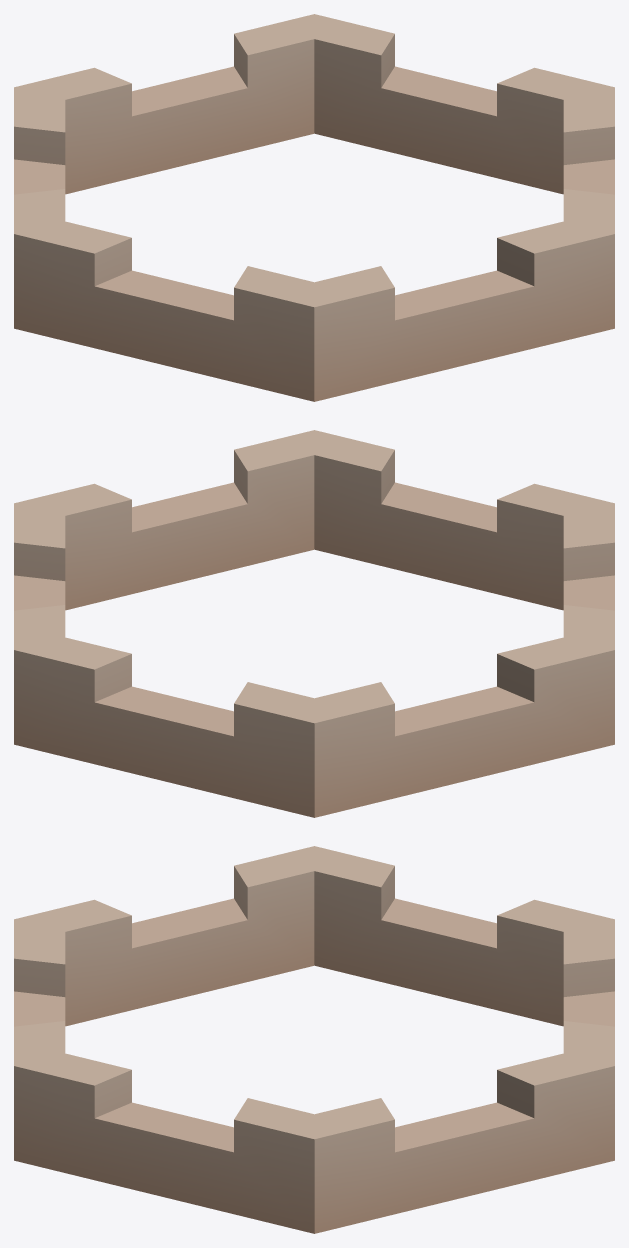
The model's file is tower-hexagon-top.glb.
3 views of the same model, one above another, from view 1: azimuth 30°, elevation 25°; view 2: azimuth 150°, elevation 25°; view 3: azimuth 270°, elevation 25° (orthographic).
Visible parts, largest first — view 1: tower-hexagon-top; view 2: tower-hexagon-top; view 3: tower-hexagon-top.
Part boxes in pixels (bbox=[...]): tower-hexagon-top: bbox=[14, 14, 614, 401]; tower-hexagon-top: bbox=[14, 430, 614, 817]; tower-hexagon-top: bbox=[14, 846, 614, 1233].
Size of the model in its own units: 0.864 by 0.13 by 0.7482.
